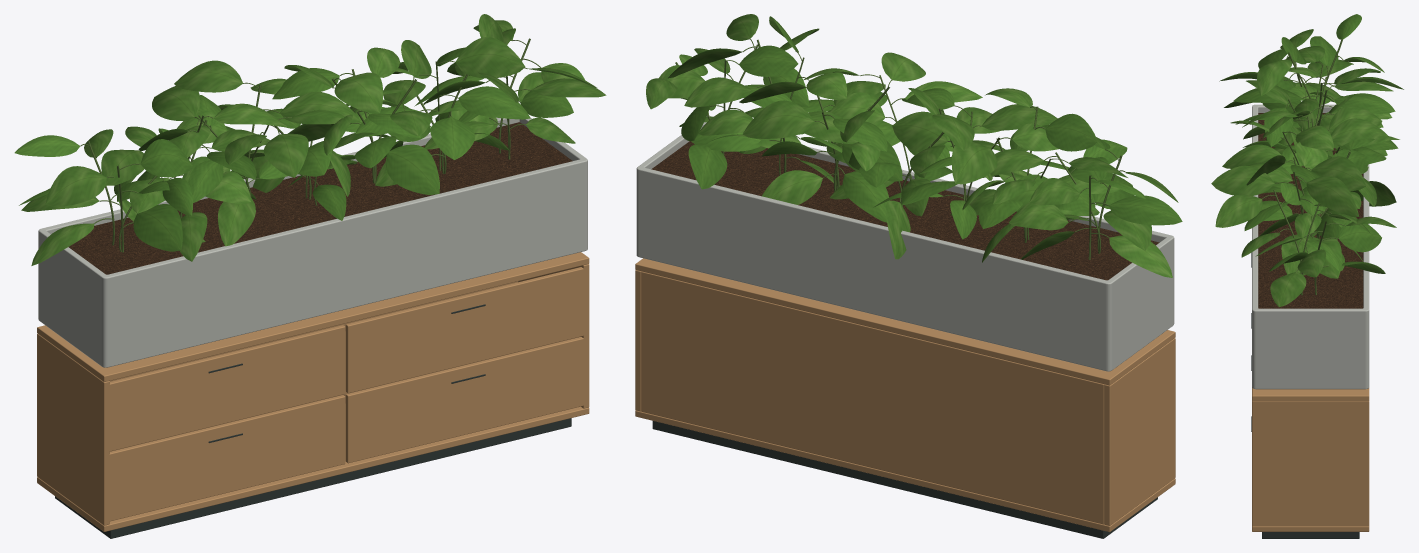
Rendered from botanicalDivider-11.glb.
3 renders of one model, left to right at view 1: azimuth 30°, elevation 25°; view 2: azimuth 150°, elevation 25°; view 3: azimuth 270°, elevation 25°, orthographic. The views are drawn at different scales.
Parts seen in each view (by area): view 1: StoragePlanter_Drawer (×4), Planter_pothos_leaves, Planter_oiled_oak, Planter_loose_soil, StoragePlanter_Side (×2), StoragePlanter_Top, StoragePlanter_Bottom, StoragePlanter_Plinth, Planter_pothos_stems, Planter_matte_accent, StoragePlanter_Back; view 2: StoragePlanter_Back, Planter_pothos_leaves, Planter_oiled_oak, Planter_loose_soil, StoragePlanter_Side (×2), StoragePlanter_Top, StoragePlanter_Plinth, StoragePlanter_Bottom, Planter_pothos_stems, Planter_matte_accent; view 3: Planter_pothos_leaves, StoragePlanter_Side, Planter_oiled_oak, Planter_loose_soil, Planter_pothos_stems, StoragePlanter_Top, StoragePlanter_Bottom, StoragePlanter_Plinth.
Part boxes in pixels (box(x1,y1,x2,y2)): StoragePlanter_Drawer (×4): box(106, 267, 587, 521); Planter_pothos_leaves: box(14, 14, 606, 265); Planter_oiled_oak: box(38, 117, 587, 367); Planter_loose_soil: box(68, 122, 572, 274); StoragePlanter_Side (×2): box(37, 264, 589, 525); StoragePlanter_Top: box(37, 252, 589, 381); StoragePlanter_Bottom: box(37, 403, 589, 531); StoragePlanter_Plinth: box(55, 418, 571, 538); Planter_pothos_stems: box(80, 38, 541, 252); Planter_matte_accent: box(112, 289, 331, 349); StoragePlanter_Back: box(109, 281, 518, 402); StoragePlanter_Back: box(641, 271, 1104, 524); Planter_pothos_leaves: box(646, 14, 1182, 277); Planter_oiled_oak: box(636, 122, 1174, 371); Planter_loose_soil: box(651, 141, 1159, 280); StoragePlanter_Side (×2): box(635, 270, 1175, 525); StoragePlanter_Top: box(635, 258, 1175, 385); StoragePlanter_Plinth: box(652, 421, 1157, 538); StoragePlanter_Bottom: box(635, 410, 1175, 532); Planter_pothos_stems: box(675, 39, 1125, 259); Planter_matte_accent: box(643, 229, 1081, 347); Planter_pothos_leaves: box(1211, 14, 1403, 307); StoragePlanter_Side: box(1252, 401, 1369, 526); Planter_oiled_oak: box(1252, 104, 1369, 389); Planter_loose_soil: box(1258, 113, 1363, 308); Planter_pothos_stems: box(1262, 39, 1350, 295); StoragePlanter_Top: box(1252, 387, 1369, 401); StoragePlanter_Bottom: box(1252, 526, 1369, 531); StoragePlanter_Plinth: box(1262, 532, 1359, 538).
Size of the model in its own units: 2.26 by 1.58 by 0.7924.
9 materials, 2 textured.
